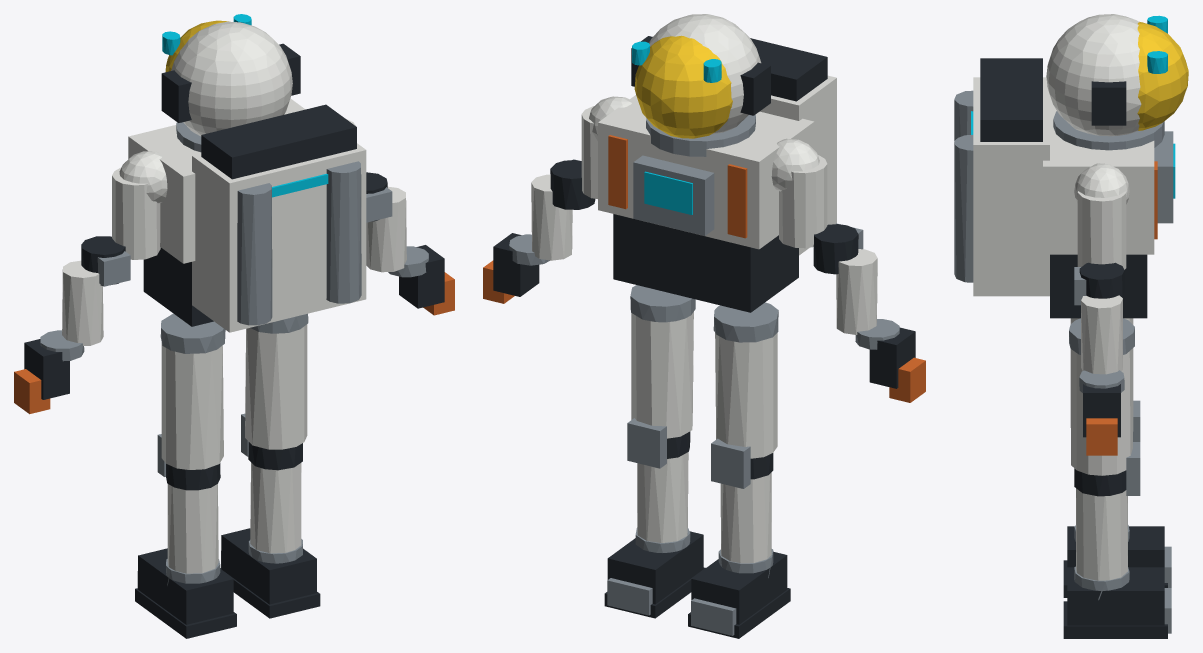
The model's file is ARES_EVA_MK1_LOD1.obj.
The picture shows the model from 3 angles, left to right: view 1: azimuth 30°, elevation 25°; view 2: azimuth 150°, elevation 25°; view 3: azimuth 270°, elevation 25°; orthographic projection.
Parts seen in each view (by area): view 1: ARES_EVA_MK1_Body; view 2: ARES_EVA_MK1_Body; view 3: ARES_EVA_MK1_Body.
Part boxes in pixels (x1=…): ARES_EVA_MK1_Body: x1=14, y1=14, x2=454, y2=638; ARES_EVA_MK1_Body: x1=483, y1=14, x2=925, y2=638; ARES_EVA_MK1_Body: x1=954, y1=14, x2=1188, y2=638.
Size of the model in its own units: 1.43 by 1.86 by 0.6748.
